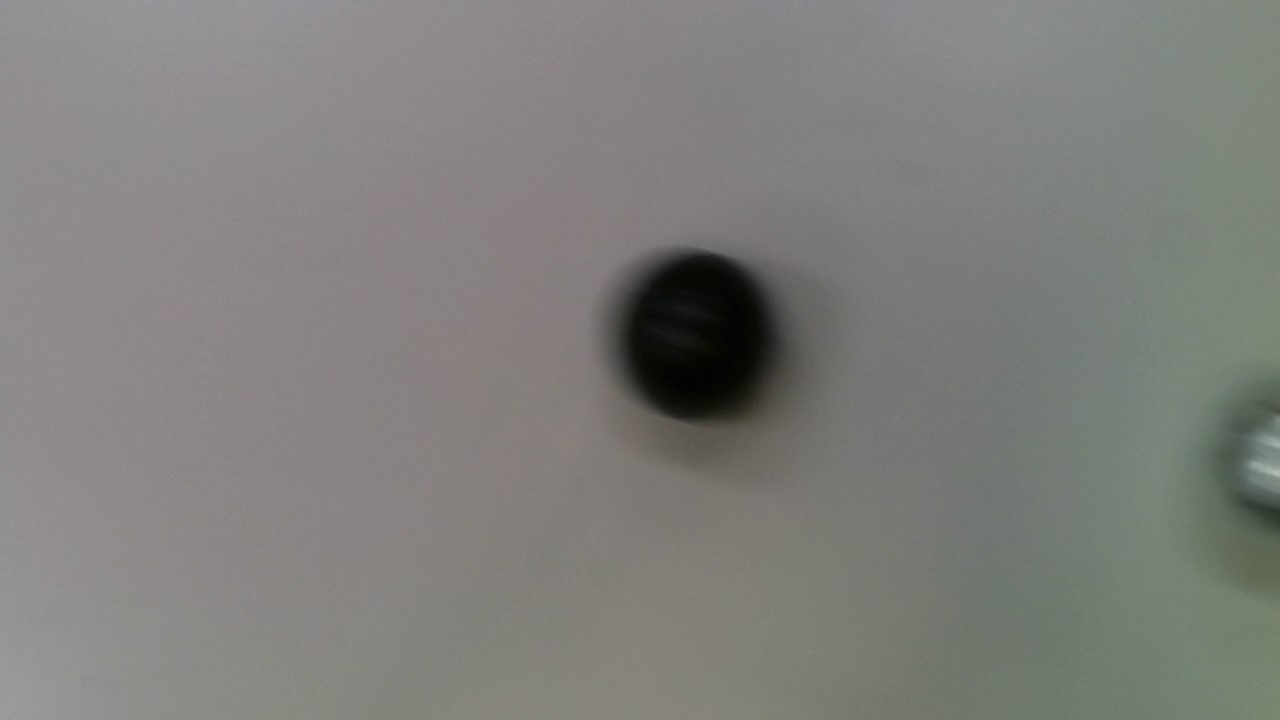black_ball: (610, 241, 771, 427)
